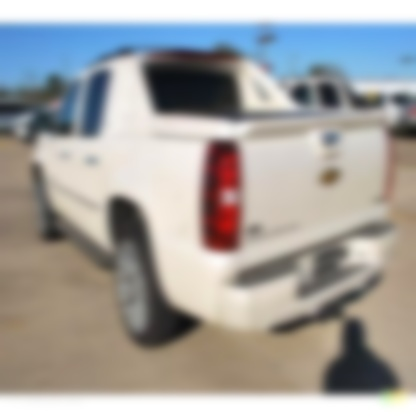Vehicle: (29, 46, 401, 350)
